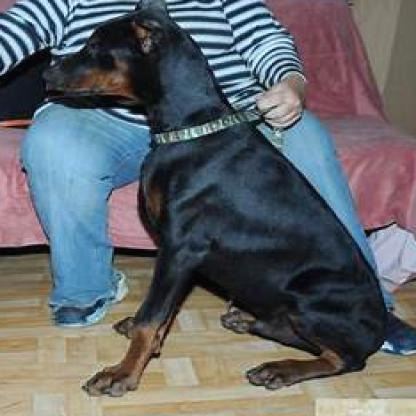dog: (38, 0, 390, 400)
